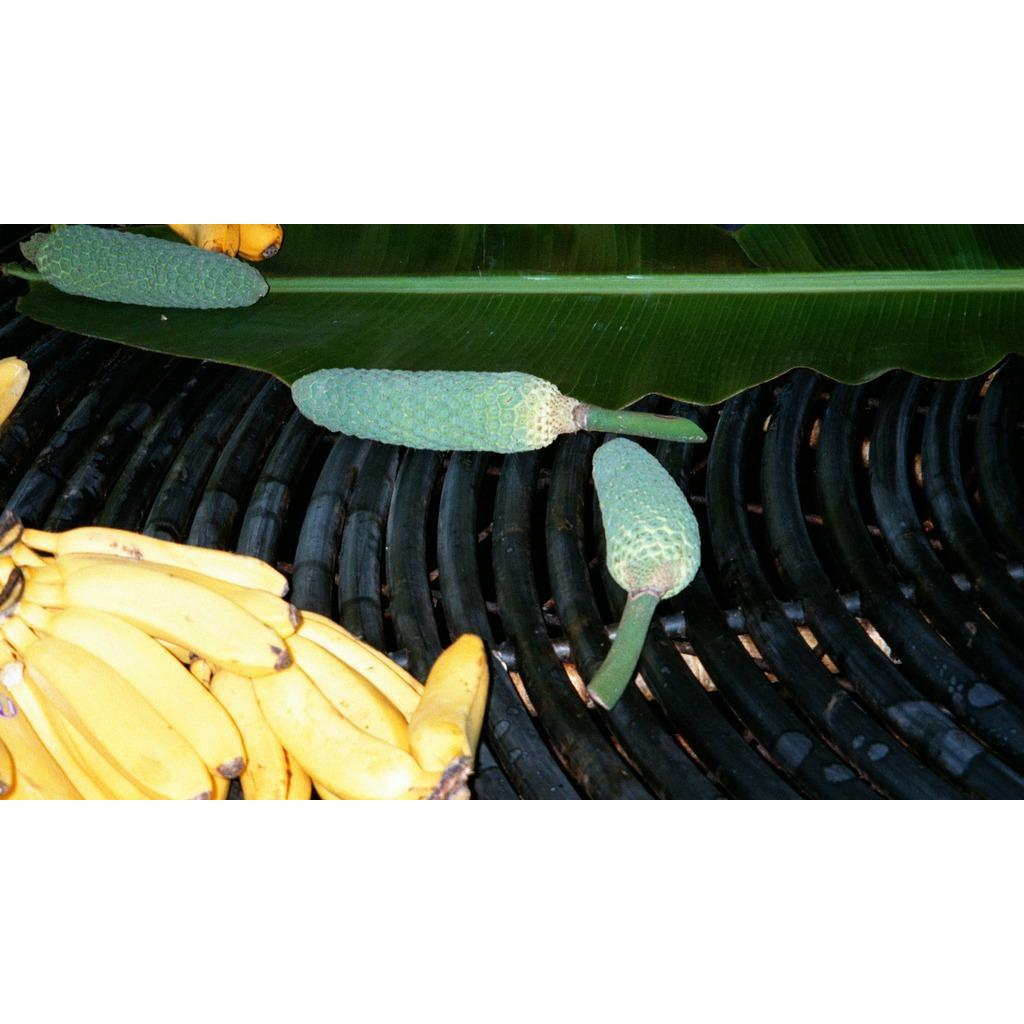banana: (56, 529, 301, 679)
